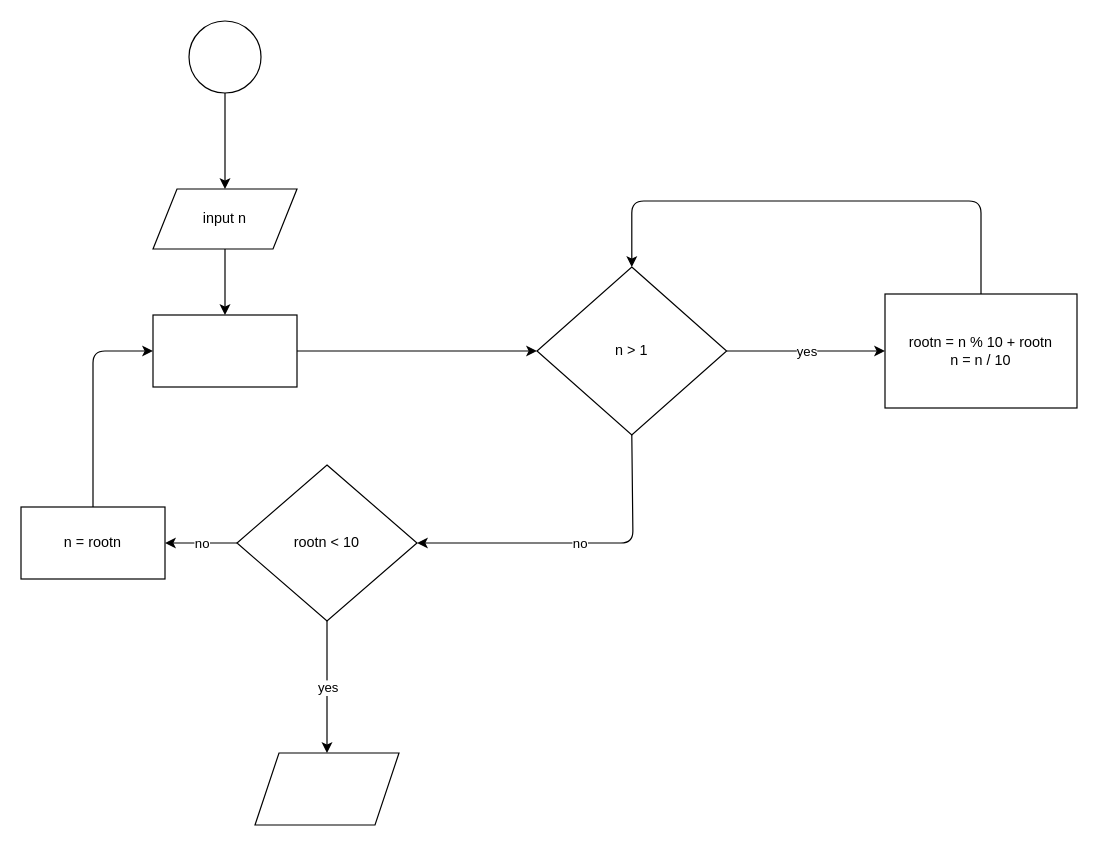
The diagram is 1098 pixels wide and 846 high, and some of its shapes have lost their labels. Each missing label, with the box of its shape:
int rootn = 0: (152, 314, 297, 387)
output n: (254, 752, 399, 825)
start: (188, 20, 261, 93)
